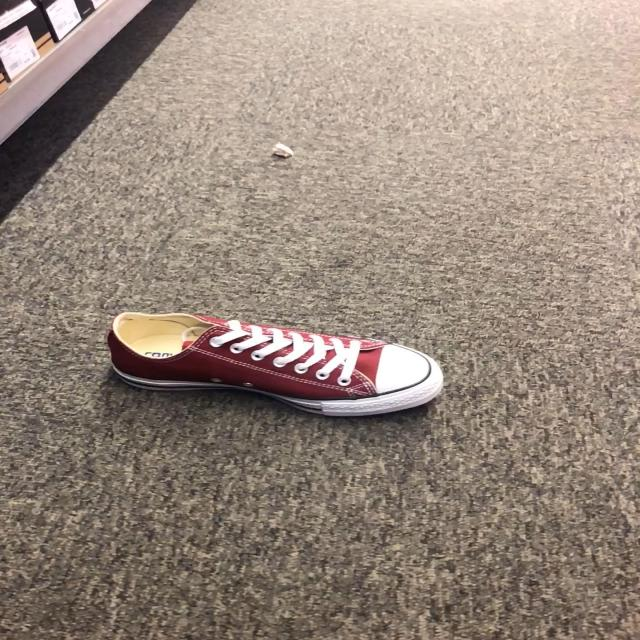shoe: (106, 313, 444, 420)
